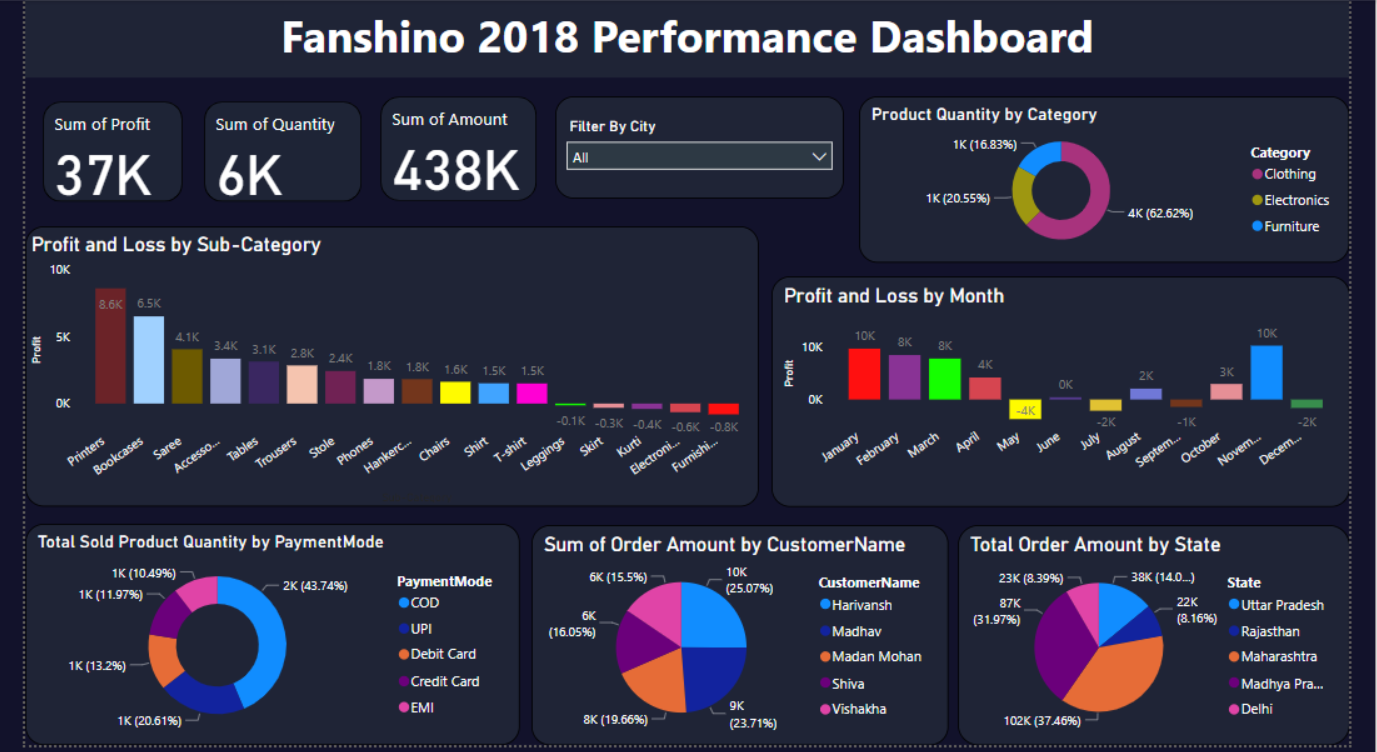

The dashboard page shown, as its layout file describes it:
{"tool":"powerbi","page":{"name":"Sales","canvas":[1280,720],"ordinal":0},"visuals":[{"type":"textbox","box":[0,0,1280,75],"z":0},{"type":"columnChart","title":"Profit and Loss by Sub-Category","fields":{"Y":["Details.Profit"],"Category":["Details.Sub-Category"]},"box":[0,218.8,708.8,271.2],"z":1000},{"type":"columnChart","title":"Profit and Loss by Month","fields":{"Y":["Details.Profit"],"Category":["Orders.Order Date.Variation.Date Hierarchy.Month"]},"box":[721.2,267.5,558.8,222.5],"z":2000},{"type":"donutChart","title":"Total Sold Product Quantity by PaymentMode","fields":{"Y":["Details.Quantity"],"Category":["Details.PaymentMode"]},"box":[0,506.2,477.5,213.8],"z":3000},{"type":"donutChart","title":"Product Quantity by Category","fields":{"Y":["Details.Quantity"],"Category":["Details.Category"]},"box":[806.2,92.5,473.8,161.2],"z":4000},{"type":"pieChart","title":"Total Order Amount by State","fields":{"Category":["Orders.State"],"Y":["Details.Amount"]},"box":[901.2,507.5,378.8,212.5],"z":5000},{"type":"pieChart","title":"Sum of Order Amount by CustomerName","fields":{"Category":["Orders.CustomerName"],"Y":["Details.Amount"]},"box":[488.8,507.5,402.5,212.5],"z":6000},{"type":"cardVisual","fields":{"Data":["Details.Profit"]},"box":[12.5,92.5,145,107.5],"z":7000},{"type":"slicer","fields":{"Values":["Orders.City"]},"box":[512.5,92.5,278.8,98.8],"z":8000},{"type":"cardVisual","fields":{"Data":["Details.Quantity"]},"box":[167.5,92.5,162.5,107.5],"z":9000},{"type":"cardVisual","fields":{"Data":["Details.Amount"]},"box":[338.8,88.8,161.2,111.2],"z":10000}]}

Visuals, with their boxes on the page's 1280x720 design canvas (x1, y1, x2, y2). These are canvas units, not pixel positions in the 1377x752 screenshot, which may show the page scaled, cropped or inside an application window:
textbox: Rect(0, 0, 1280, 75)
"Profit and Loss by Sub-Category" columnChart: Rect(0, 219, 709, 490)
"Profit and Loss by Month" columnChart: Rect(721, 268, 1280, 490)
"Total Sold Product Quantity by PaymentMode" donutChart: Rect(0, 506, 478, 720)
"Product Quantity by Category" donutChart: Rect(806, 92, 1280, 254)
"Total Order Amount by State" pieChart: Rect(901, 508, 1280, 720)
"Sum of Order Amount by CustomerName" pieChart: Rect(489, 508, 891, 720)
cardVisual - Details.Profit: Rect(12, 92, 158, 200)
slicer - Orders.City: Rect(512, 92, 791, 191)
cardVisual - Details.Quantity: Rect(168, 92, 330, 200)
cardVisual - Details.Amount: Rect(339, 89, 500, 200)
